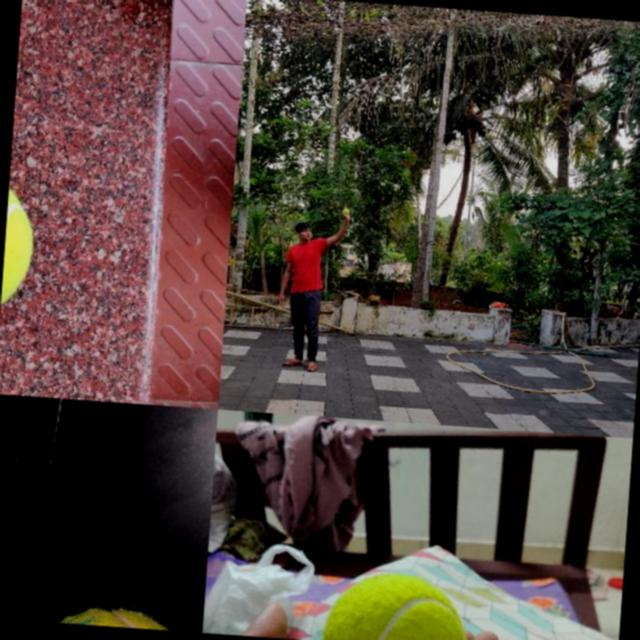Tennis Ball: (322, 568, 469, 640), (342, 208, 348, 214)
